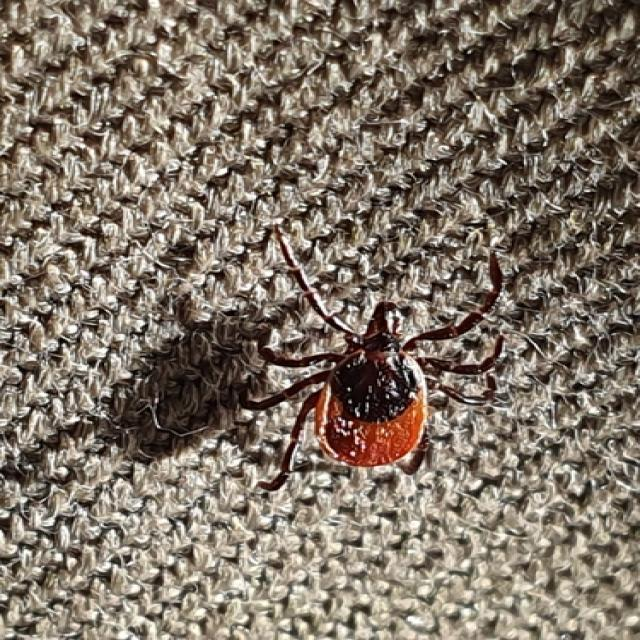Ixodes Ricinus-F: (241, 225, 503, 493)
